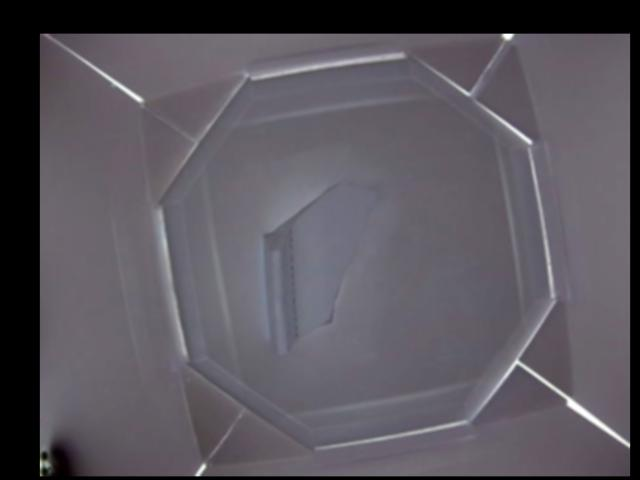China: (261, 181, 375, 354)
